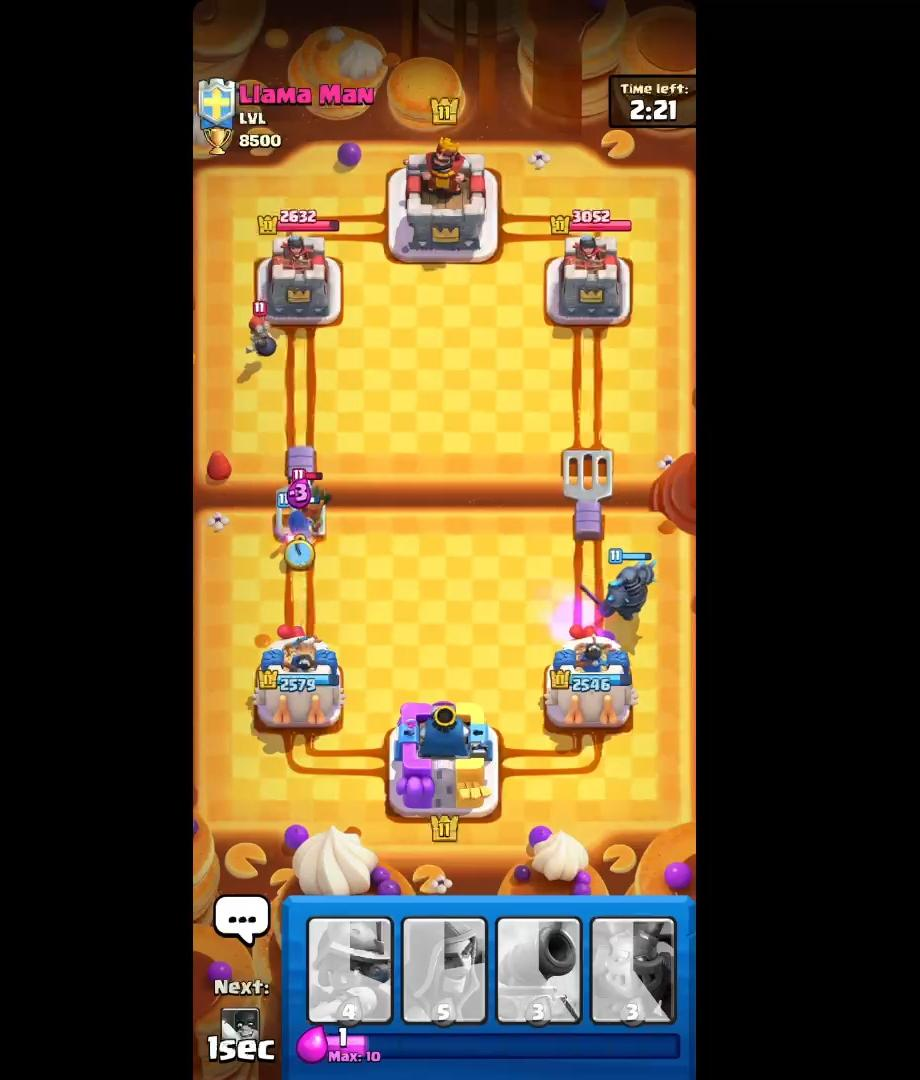Bomber: (237, 298, 279, 363)
